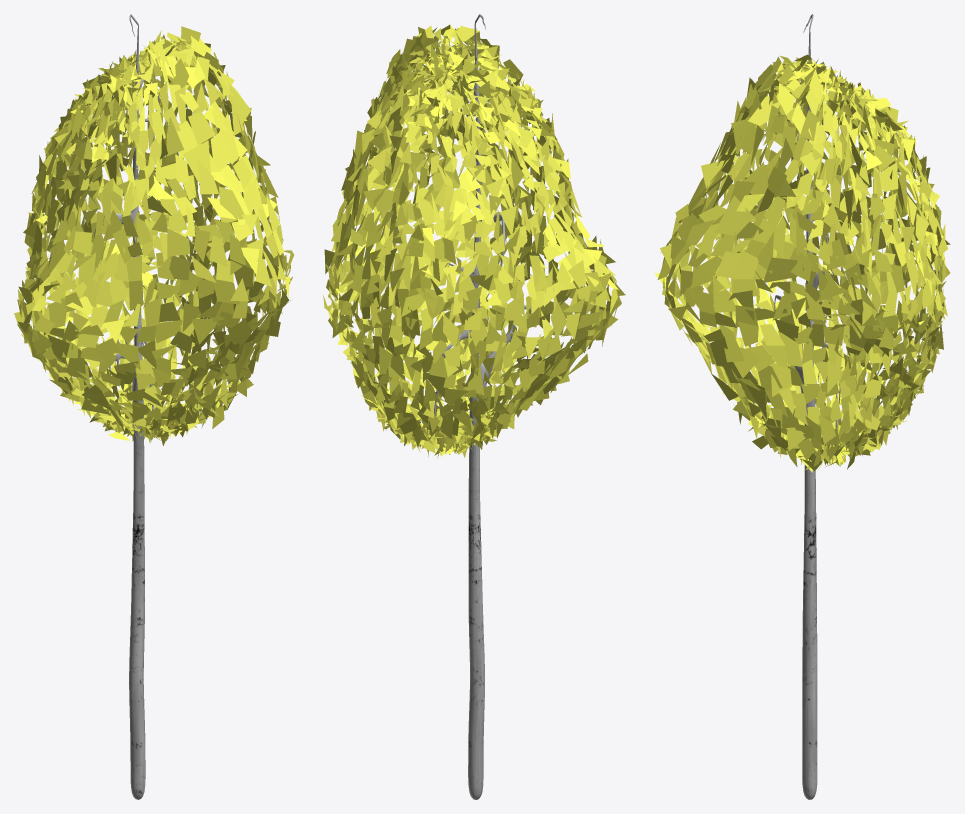
Rendered from Leaves34.001.fbx.
3 renders of one model, left to right at view 1: azimuth 30°, elevation 25°; view 2: azimuth 150°, elevation 25°; view 3: azimuth 270°, elevation 25°, orthographic.
Parts seen in each view (by area): view 1: Leaves34.001; view 2: Leaves34.001; view 3: Leaves34.001.
Boxes of the visible parts, <box> form: Leaves34.001: <box>14,14,293,799</box>; Leaves34.001: <box>323,14,625,799</box>; Leaves34.001: <box>654,14,950,799</box>.
Size of the model in its own units: 859 by 2612 by 896.
Materials: 2 (1 with a texture image).
